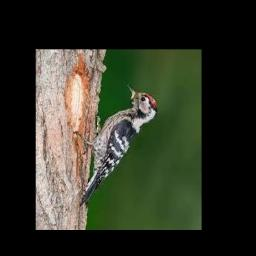Woodpecker: (74, 85, 158, 205)
